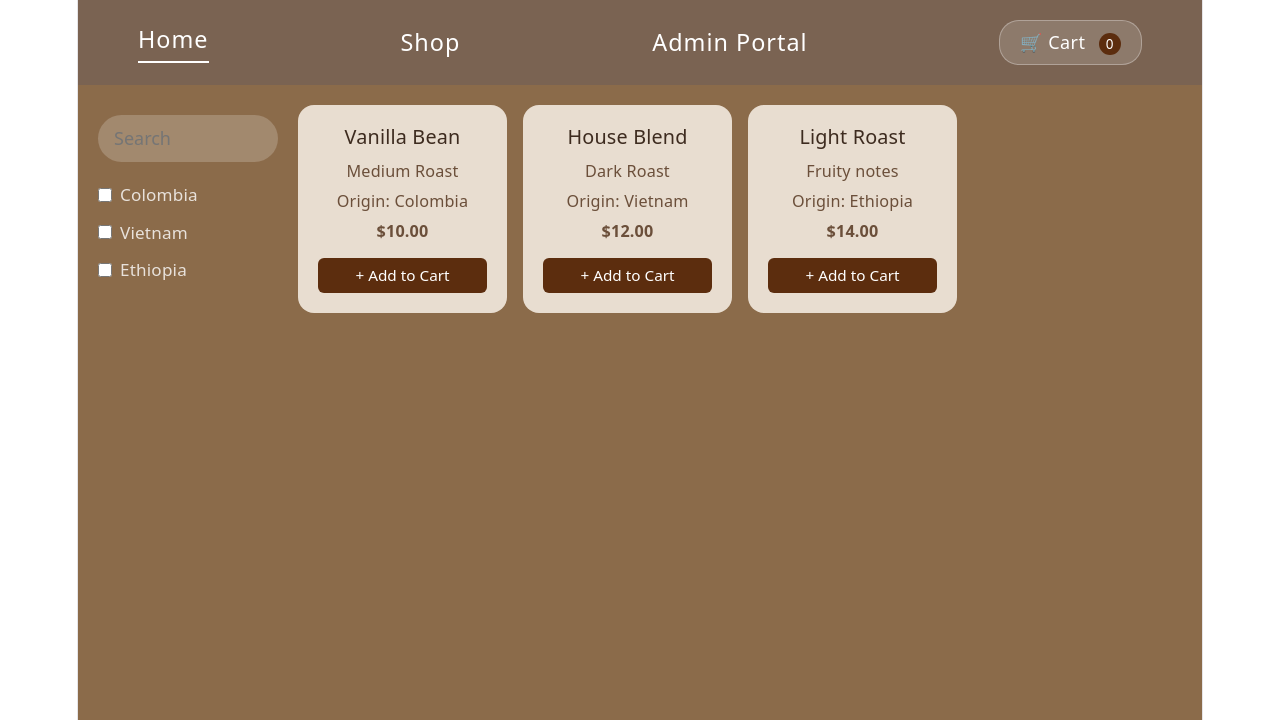
Test: Shop › filters products by search
The width and height of the screenshot is (1280, 720).
Type "Vanilla" into the field with placeholder "Search". click: (188, 138)
box: [98,115,278,162]
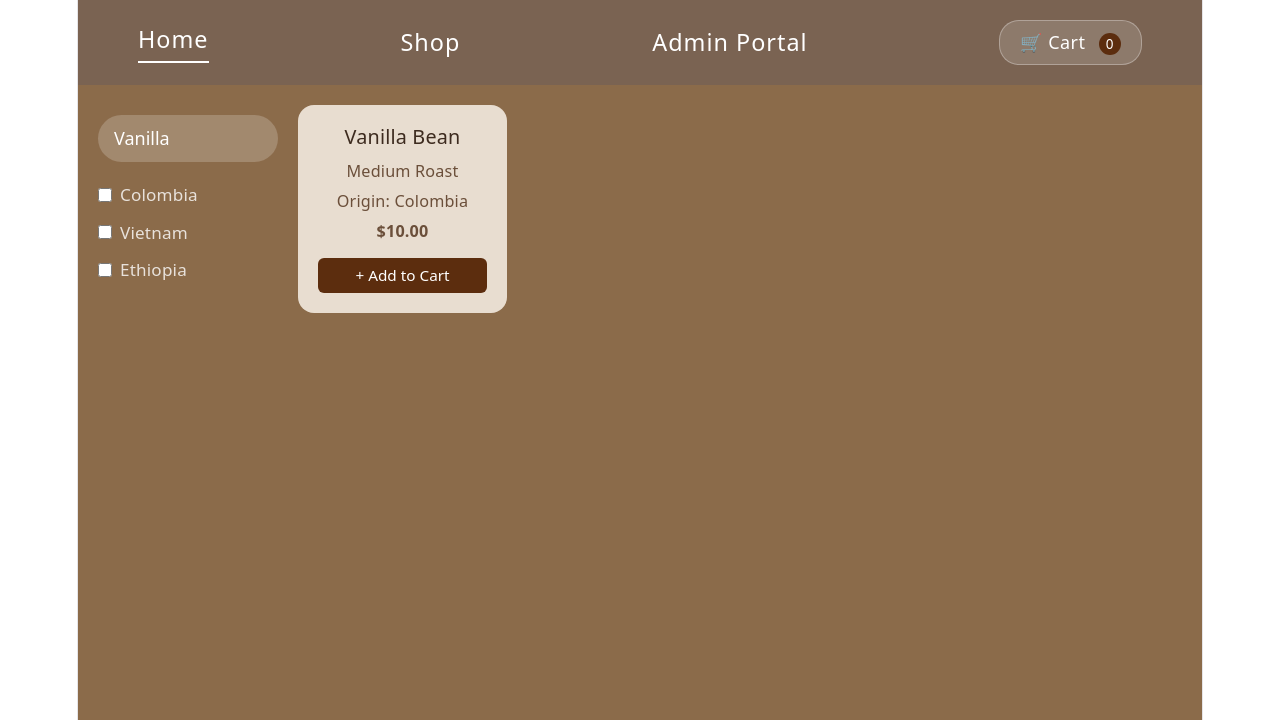
Expected: the heading "Vanilla Bean" is shown, [345,123,460,150]
Result: the heading "House Blend" is gone
